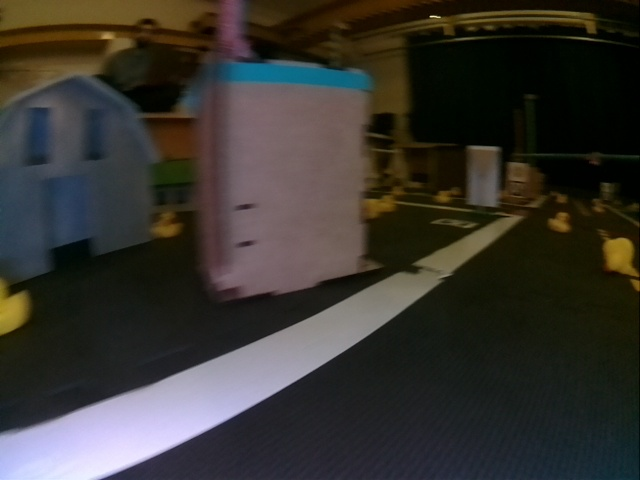Duckie: (1, 276, 31, 337), (604, 237, 634, 274), (152, 212, 183, 238), (548, 213, 571, 234), (436, 191, 450, 203)
QR code: (432, 218, 478, 228), (507, 181, 522, 195)
